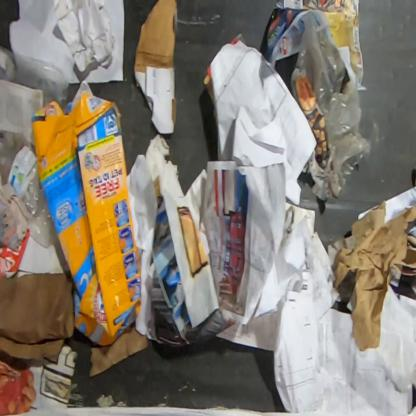cardboard: (31, 91, 143, 346), (133, 0, 178, 135)
rigid_plastic: (0, 129, 58, 249)
soft_plastic: (294, 10, 373, 197), (0, 42, 71, 108)
